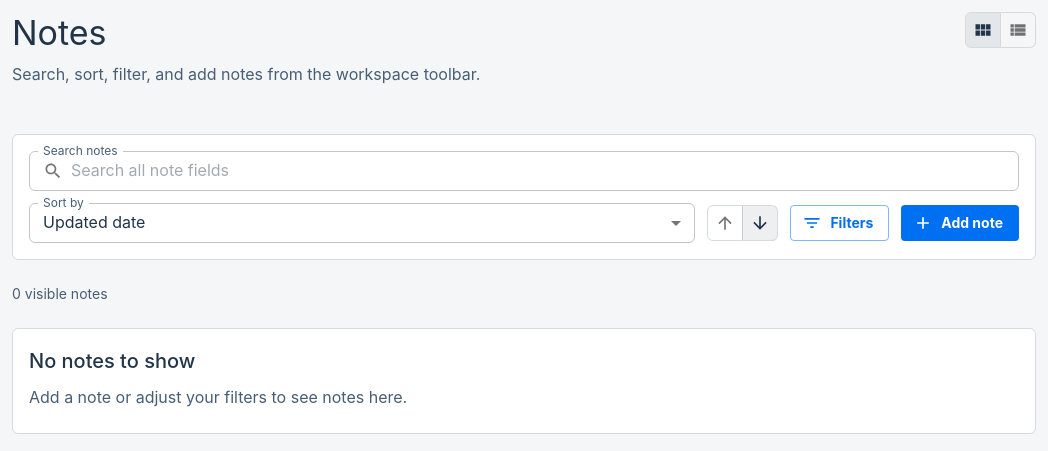
Test: NotesPage › keeps an empty Data Grid scoped when no note templates exist
This screenshot has width=1048, height=451.
Step 1. Click the button named "Data Grid view" → [1018, 30], box x1=1000 y1=12 x2=1036 y2=48
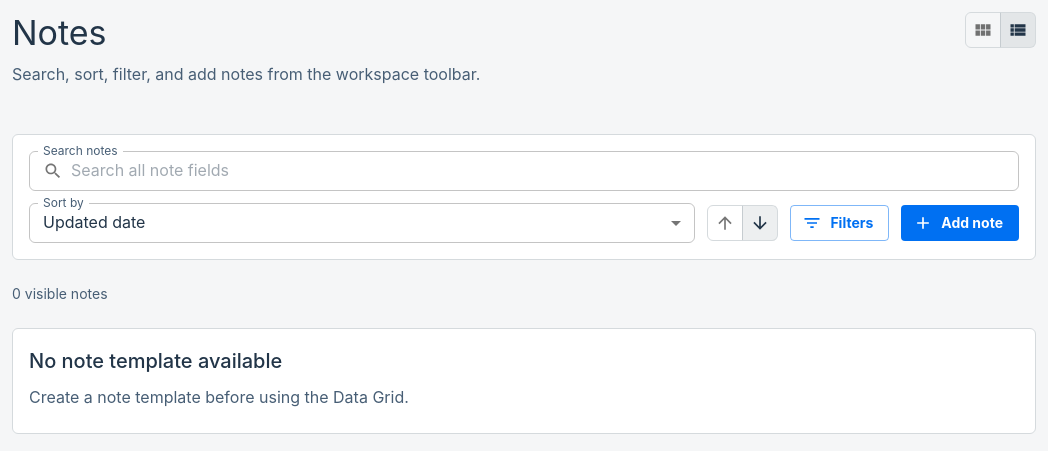
Expected: the heading "No note template available" is shown, x1=29 y1=349 x2=282 y2=373
